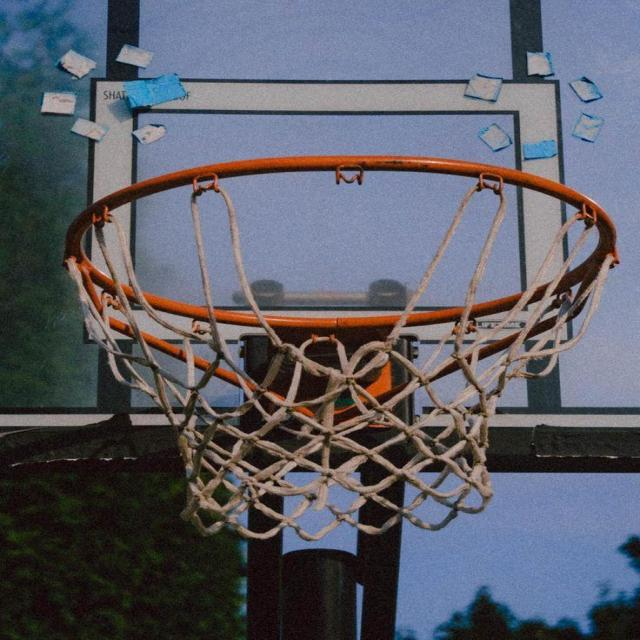hoop: (32, 173, 640, 558)
